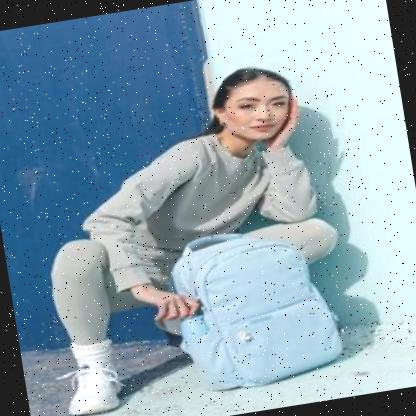bag: (156, 206, 354, 406)
person: (11, 50, 365, 416)
